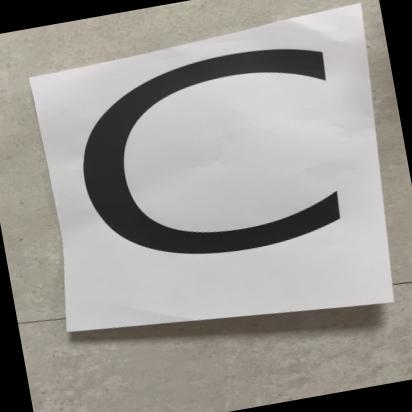seat: (30, 17, 396, 348)
